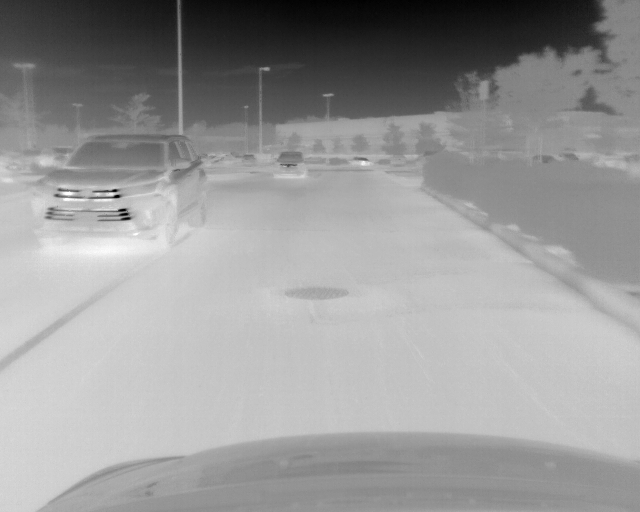car: (29, 134, 207, 247), (10, 148, 51, 169), (273, 151, 306, 177), (350, 157, 373, 165), (241, 154, 256, 166)
